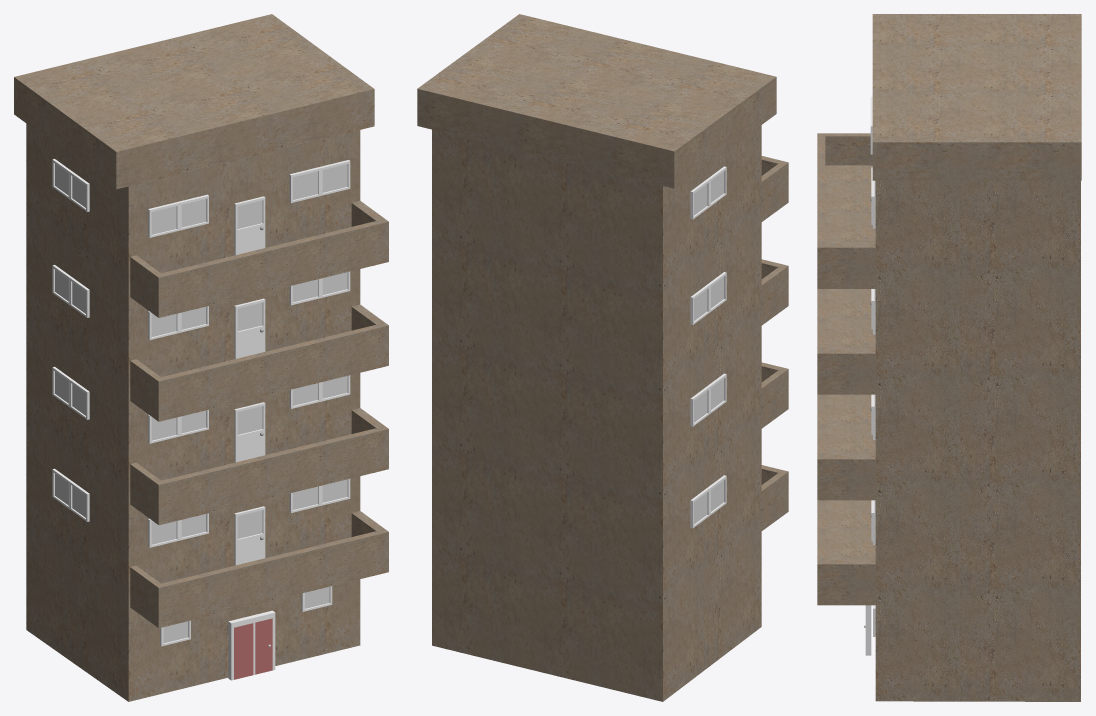
File: Building_5corrected_VAL.fbx
3 renders of one model, left to right at view 1: azimuth 30°, elevation 25°; view 2: azimuth 150°, elevation 25°; view 3: azimuth 270°, elevation 25°, orthographic. The views are drawn at different scales.
Parts seen in each view (by area): view 1: pCube2, pCube9, floor6, floor7, floor5, floor4, window (×12), window10 (×4), window1 (×8), doors, window11, window12; view 2: pCube2, pCube9, window1 (×4), floor5, floor6, floor7, floor4; view 3: pCube2, pCube9, floor4, floor6, floor5, floor7.
Part boxes in pixels (x1,y1,x2,y2): pCube2: (26, 123, 360, 701); pCube9: (14, 14, 374, 189); floor6: (130, 408, 388, 525); floor7: (130, 511, 388, 628); floor5: (130, 304, 388, 421); floor4: (130, 200, 388, 317); window (×12): (70, 160, 350, 540); window10 (×4): (234, 196, 265, 565); window1 (×8): (148, 167, 320, 547); doors: (228, 610, 275, 680); window11: (301, 586, 332, 611); window12: (160, 620, 190, 646); pCube2: (432, 125, 761, 701); pCube9: (417, 14, 776, 188); window1 (×4): (690, 179, 709, 528); floor5: (761, 259, 788, 325); floor6: (761, 362, 788, 428); floor7: (761, 465, 788, 530); floor4: (761, 156, 788, 221); pCube2: (875, 180, 1080, 701); pCube9: (872, 14, 1081, 180); floor4: (817, 133, 876, 288); floor6: (817, 394, 876, 500); floor5: (817, 289, 876, 394); floor7: (817, 500, 876, 605).
Size of the model in its own units: 8.69 by 17.88 by 7.57.
